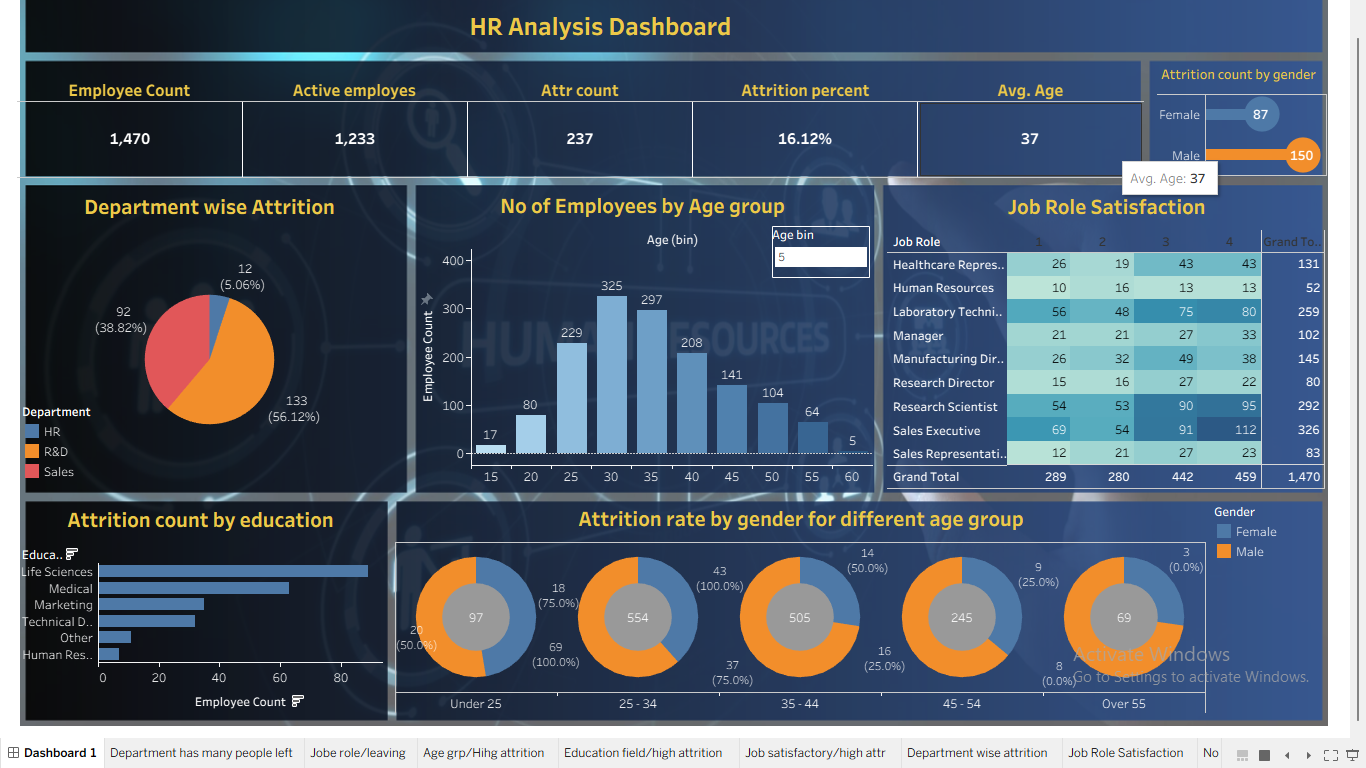

The dashboard page shown, as its layout file describes it:
{"tool":"tableau","page":{"name":"Dashboard 1","canvas":[1000,1000],"units":"permille","ordinal":0},"visuals":[{"type":"image","param":"C:/Users/Anusha K/Downloads/HR background.pptx.png","box":[6.1,10.5,987.9,978.9]},{"type":"text","box":[34.9,42.1,820.5,39.5]},{"type":"worksheet","title":"KPI Card","mark":"Automatic","box":[12.9,109.2,835.6,154]},{"type":"worksheet","title":"Attrition count by gender","mark":"Automatic","rows":["Gender"],"cols":["Calculation_0702316026413057","Calculation_0702316026413057"],"box":[857.6,109.2,125.8,151.3]},{"type":"worksheet","title":"No of employees by age group","mark":"Automatic","rows":["Employee Count"],"cols":["Age (bin)"],"box":[305.3,275,341.7,393.4]},{"type":"worksheet","title":"Department wise attrition","mark":"Pie","box":[13.6,276.3,284.1,396.1]},{"type":"worksheet","title":"Job Role Satisfaction","mark":"Square","rows":["Job Role"],"cols":["Job Satisfaction"],"box":[657.6,276.3,325.8,397.4]},{"type":"parameter","param":"[Parameters].[Parameter 1]","box":[572,326.3,72.7,68.4]},{"type":"legend","title":"Department wise attrition","param":"[federated.1uvh0r50rgw7fr19g35fx17egaaj].[none:Department:nk]","box":[16.7,559.2,106.1,102.6]},{"type":"worksheet","title":"Attrition rate by gender","mark":"Pie","rows":["Calculation_0737501009702913","Calculation_0737501009702913"],"cols":["CF_age band"],"box":[293.2,686.8,602.3,281.6]},{"type":"worksheet","title":"Education field/high attrition","mark":"Automatic","rows":["Education Field"],"cols":["Employee Count"],"box":[13.6,688.2,270.4,284.2]},{"type":"legend","title":"Attrition rate by gender","param":"[federated.1uvh0r50rgw7fr19g35fx17egaaj].[none:Gender:nk]","box":[900,690.8,87.1,101.3]}]}

Visuals, with their boxes on the dashboard's canvas, which has no fixed pixel size, in thousandths of its width and height (x1, y1, x2, y2). These are canvas units, not pixel positions in the 1366x768 screenshot, which may show the page scaled, cropped or inside an application window:
image: bbox=[6, 10, 994, 989]
text: bbox=[35, 42, 855, 82]
"KPI Card" worksheet: bbox=[13, 109, 848, 263]
"Attrition count by gender" worksheet: bbox=[858, 109, 983, 260]
"No of employees by age group" worksheet: bbox=[305, 275, 647, 668]
"Department wise attrition" worksheet (Pie marks): bbox=[14, 276, 298, 672]
"Job Role Satisfaction" worksheet (Square marks): bbox=[658, 276, 983, 674]
parameter: bbox=[572, 326, 645, 395]
"Department wise attrition" legend: bbox=[17, 559, 123, 662]
"Attrition rate by gender" worksheet (Pie marks): bbox=[293, 687, 896, 968]
"Education field/high attrition" worksheet: bbox=[14, 688, 284, 972]
"Attrition rate by gender" legend: bbox=[900, 691, 987, 792]
